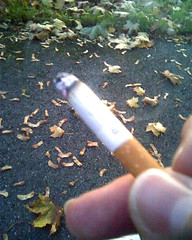cigarette: (51, 69, 168, 177)
